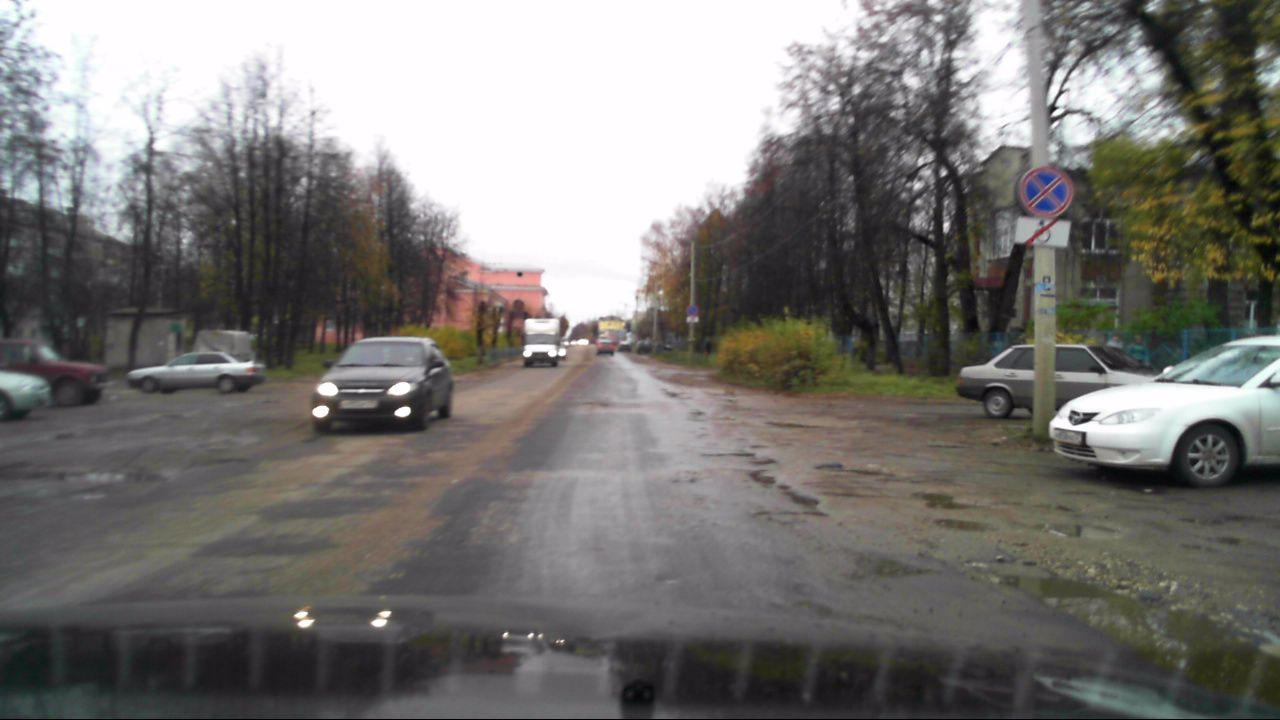3_27: (1013, 163, 1074, 214)
3_28: (686, 306, 697, 315)
8_18: (1013, 217, 1072, 247), (686, 316, 700, 322)
